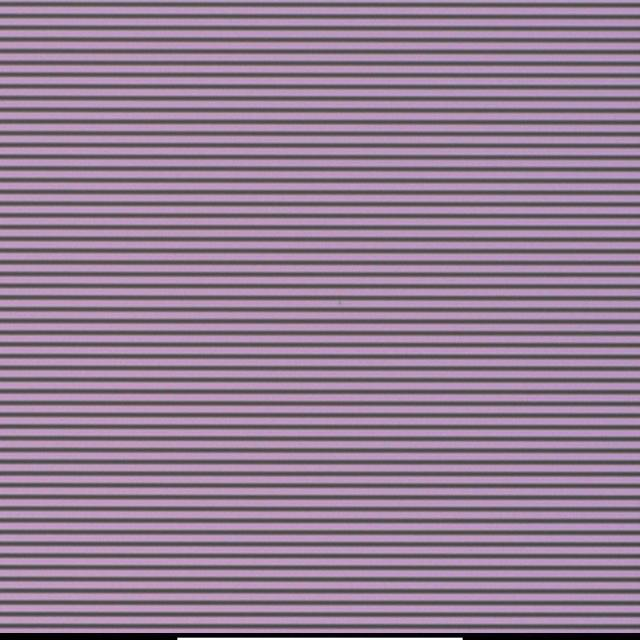nonvisual: (335, 295, 344, 311)
